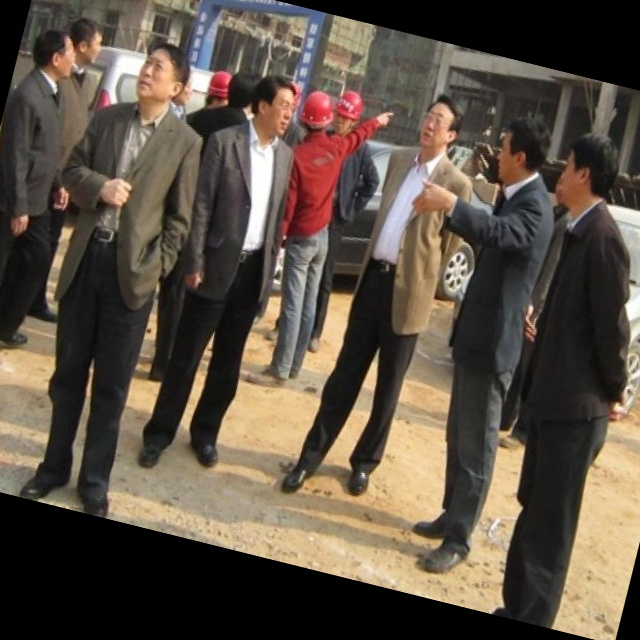Con_Casco: (296, 87, 339, 137)
Sin_Casco_Mascarrilla: (493, 110, 556, 190), (131, 38, 197, 113), (413, 91, 469, 159)
